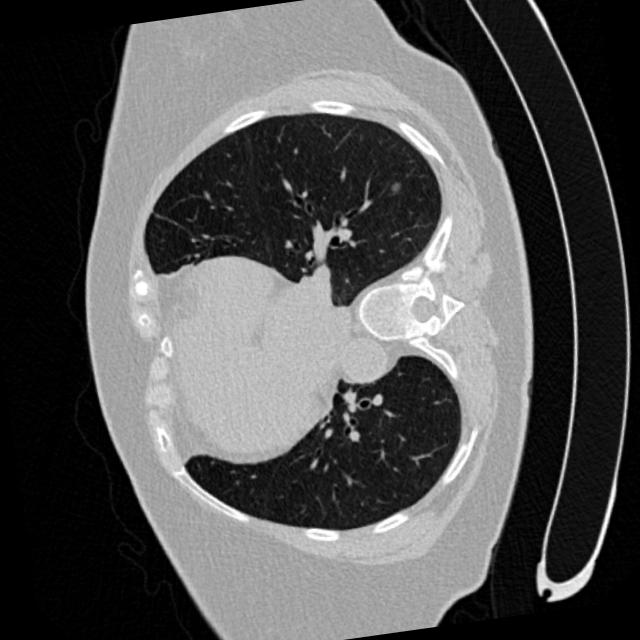nodule: (383, 175, 406, 198)
